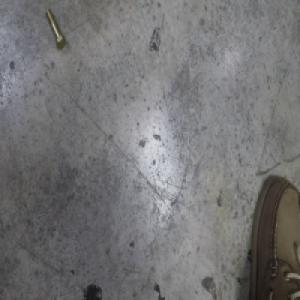Bolt: (46, 8, 67, 51)
